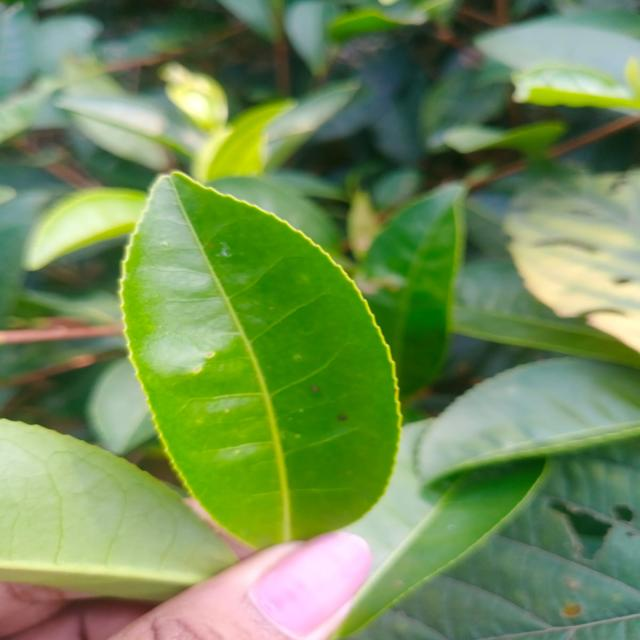Category D(7+ days, Not for Tea): (63, 129, 417, 548)
